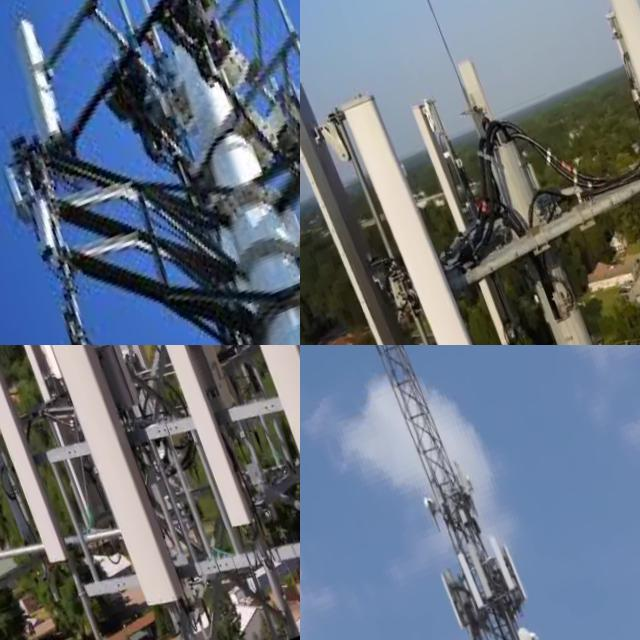GSM Antenna: (0, 345, 196, 640), (327, 76, 539, 345), (300, 59, 454, 345), (402, 91, 518, 345), (194, 345, 300, 606), (129, 345, 257, 549), (575, 0, 640, 335), (0, 345, 79, 590), (41, 345, 185, 472), (0, 6, 80, 163), (0, 345, 69, 425), (449, 50, 500, 146), (15, 184, 70, 271), (451, 550, 490, 626), (483, 534, 519, 604), (460, 541, 496, 606)
Microwave Antenna: (417, 495, 437, 520), (508, 624, 532, 640), (460, 477, 475, 498), (524, 632, 544, 640)
